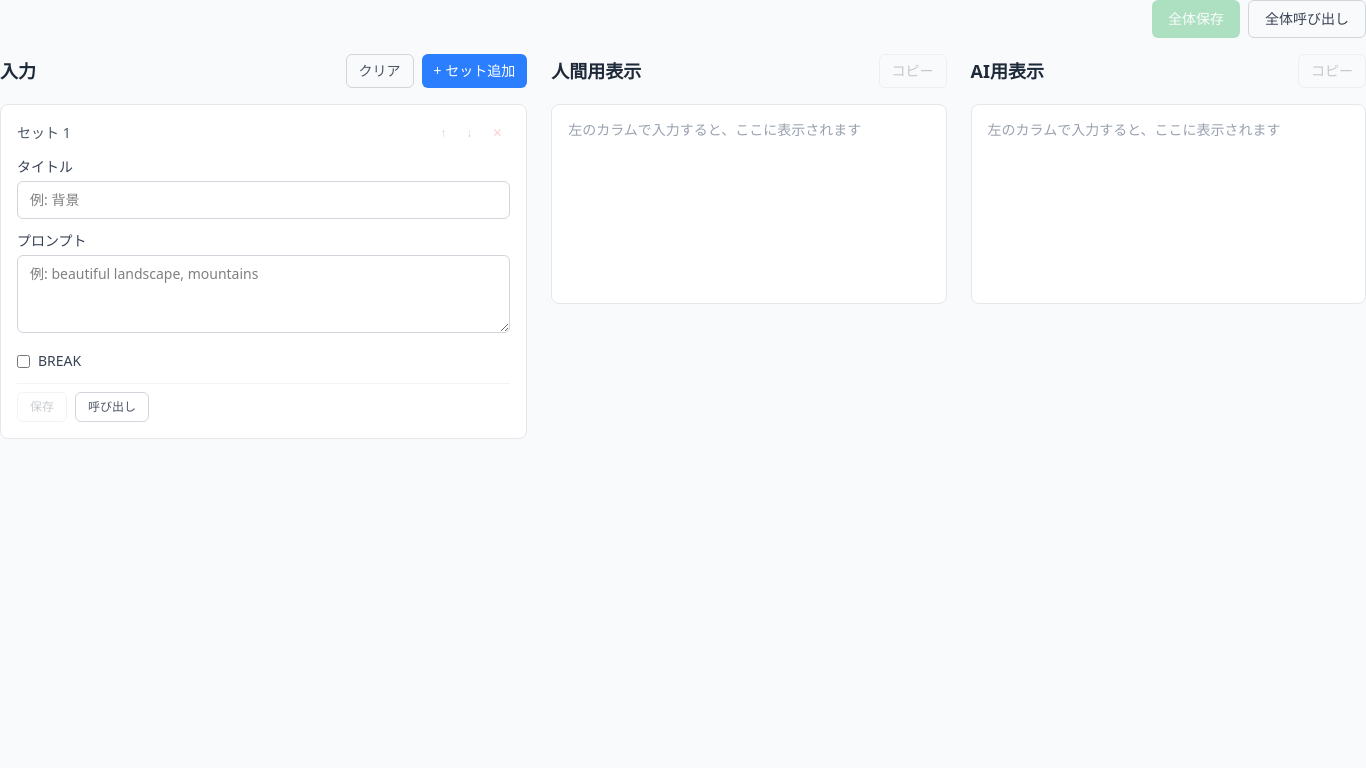
Test case: PromptGenerator › 保存ボタンでSaveDialogが開く
Type "テスト" into the field labelled "タイトル" at (264, 200), box [17, 181, 510, 219]
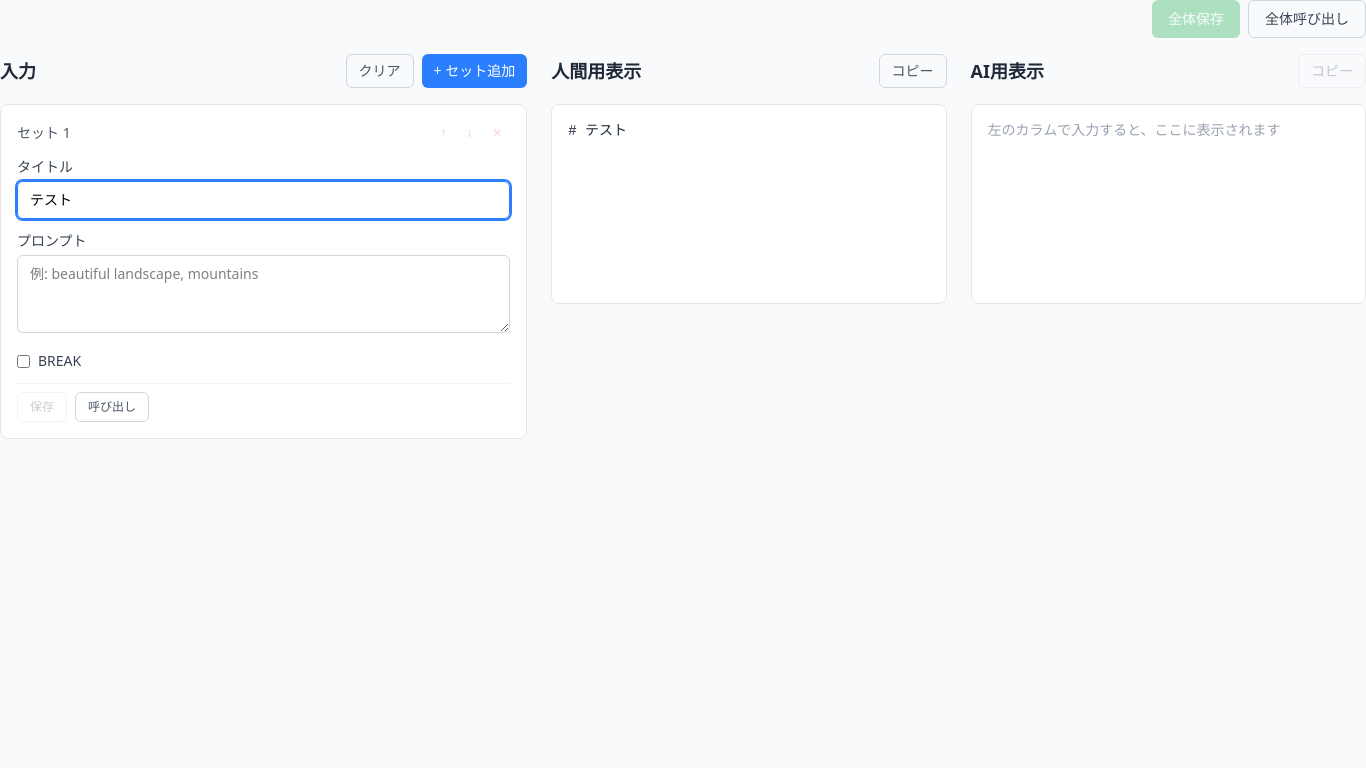
Type "test" into the text box labelled "プロンプト" at (264, 294), box [17, 255, 510, 333]
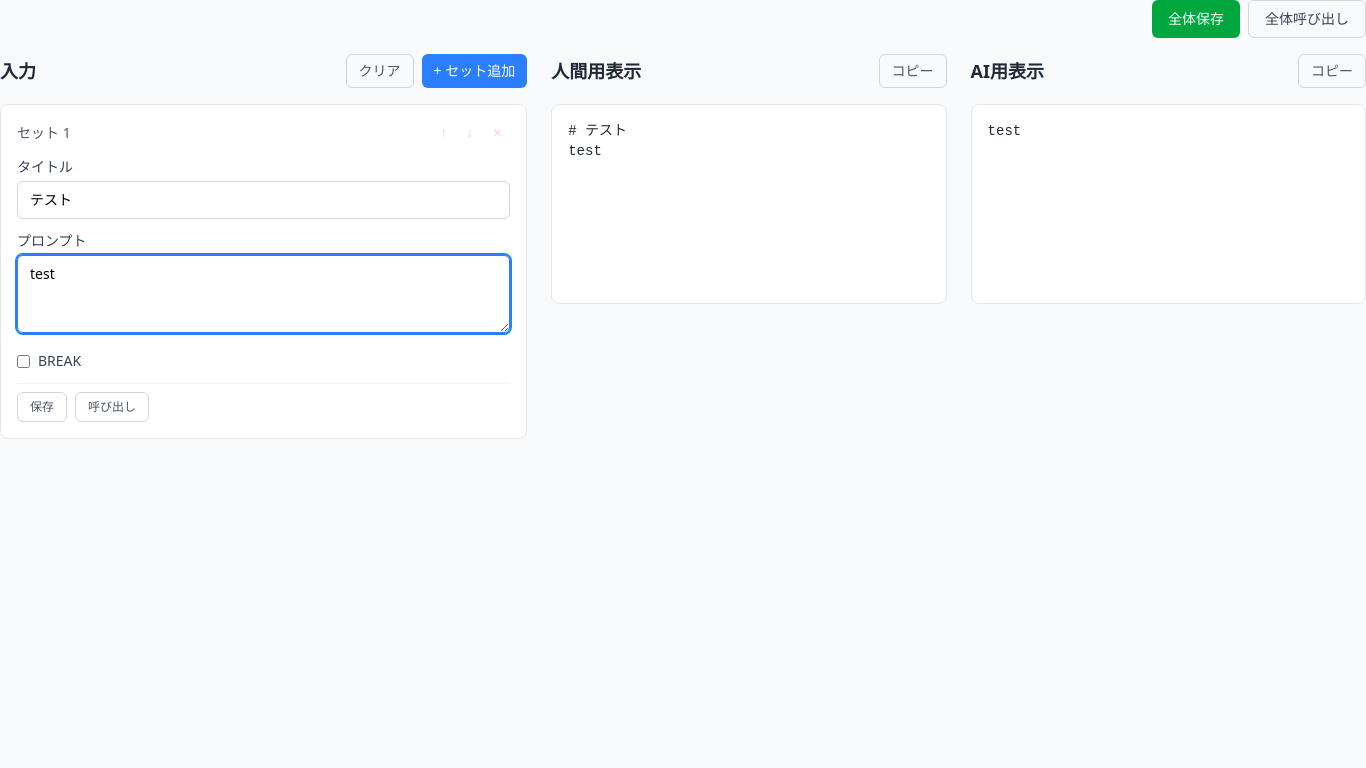
Click the button with aria-label "セット1を保存" at (42, 407), box [17, 392, 67, 422]
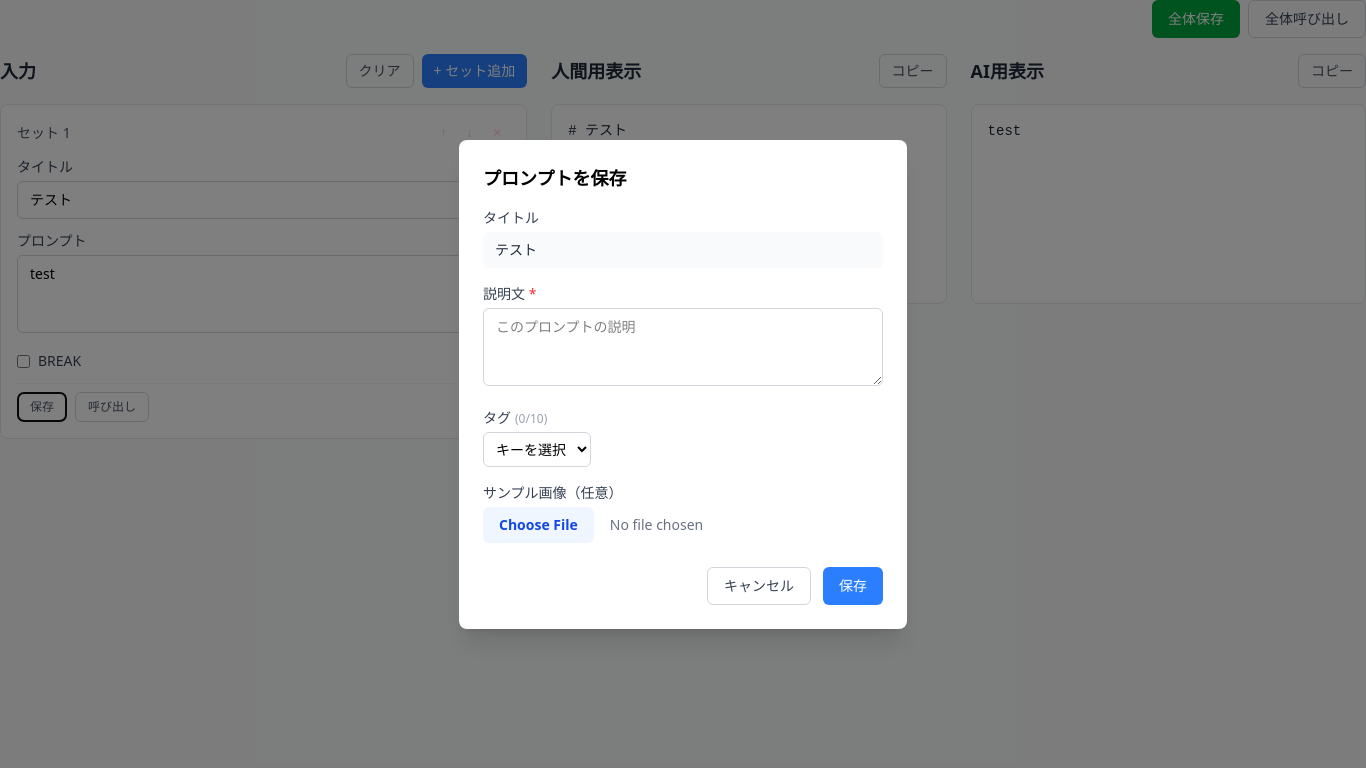
Expected: the heading "プロンプトを保存" is shown, [483, 166, 626, 190]
